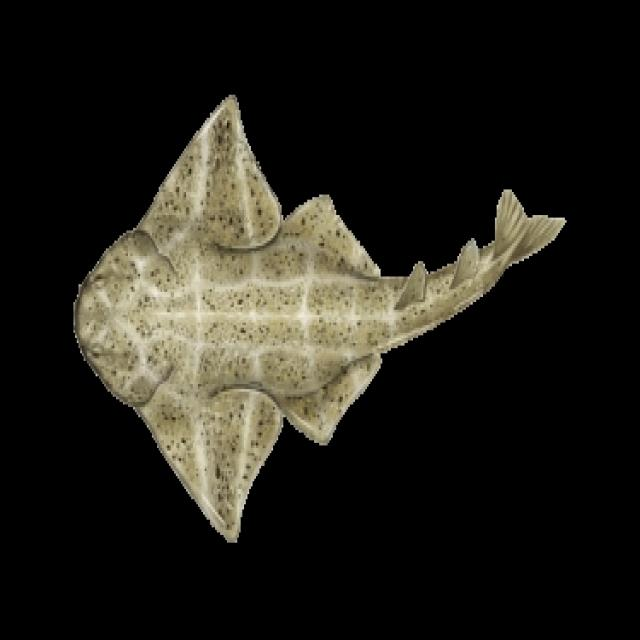gaviota: (73, 97, 563, 540)
